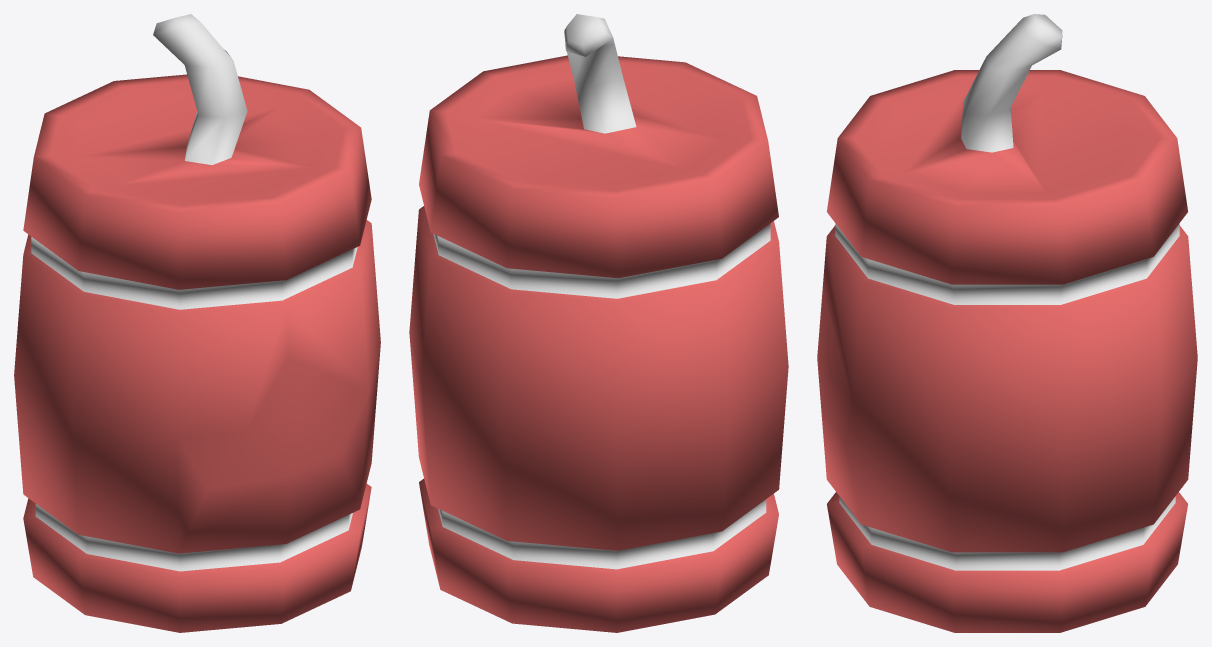
The model's file is explosivebarrel.fbx.
The picture shows the model from 3 angles, left to right: view 1: azimuth 30°, elevation 25°; view 2: azimuth 150°, elevation 25°; view 3: azimuth 270°, elevation 25°; orthographic projection. The views are drawn at different scales.
Visible parts, largest first — view 1: Cylinder.005; view 2: Cylinder.005; view 3: Cylinder.005.
Part boxes in pixels (<box>): Cylinder.005: <box>14,14,380,632</box>; Cylinder.005: <box>409,14,788,632</box>; Cylinder.005: <box>817,14,1197,632</box>.
Size of the model in its own units: 200 by 333 by 211.
